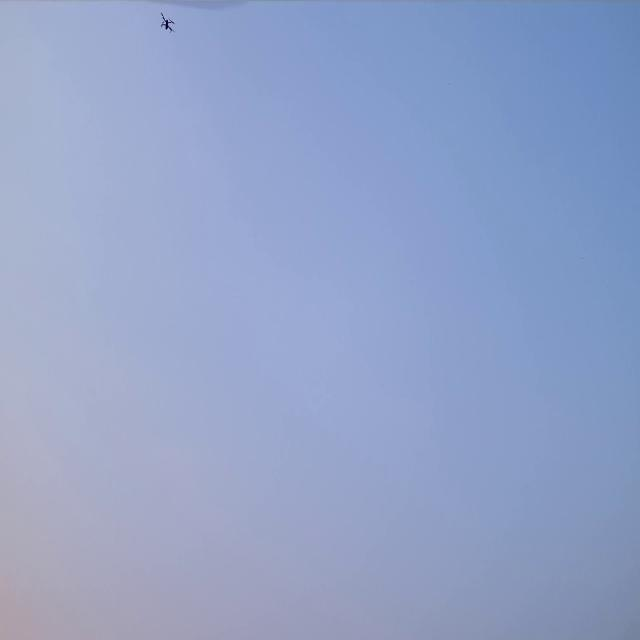UAV: (159, 9, 175, 35)
